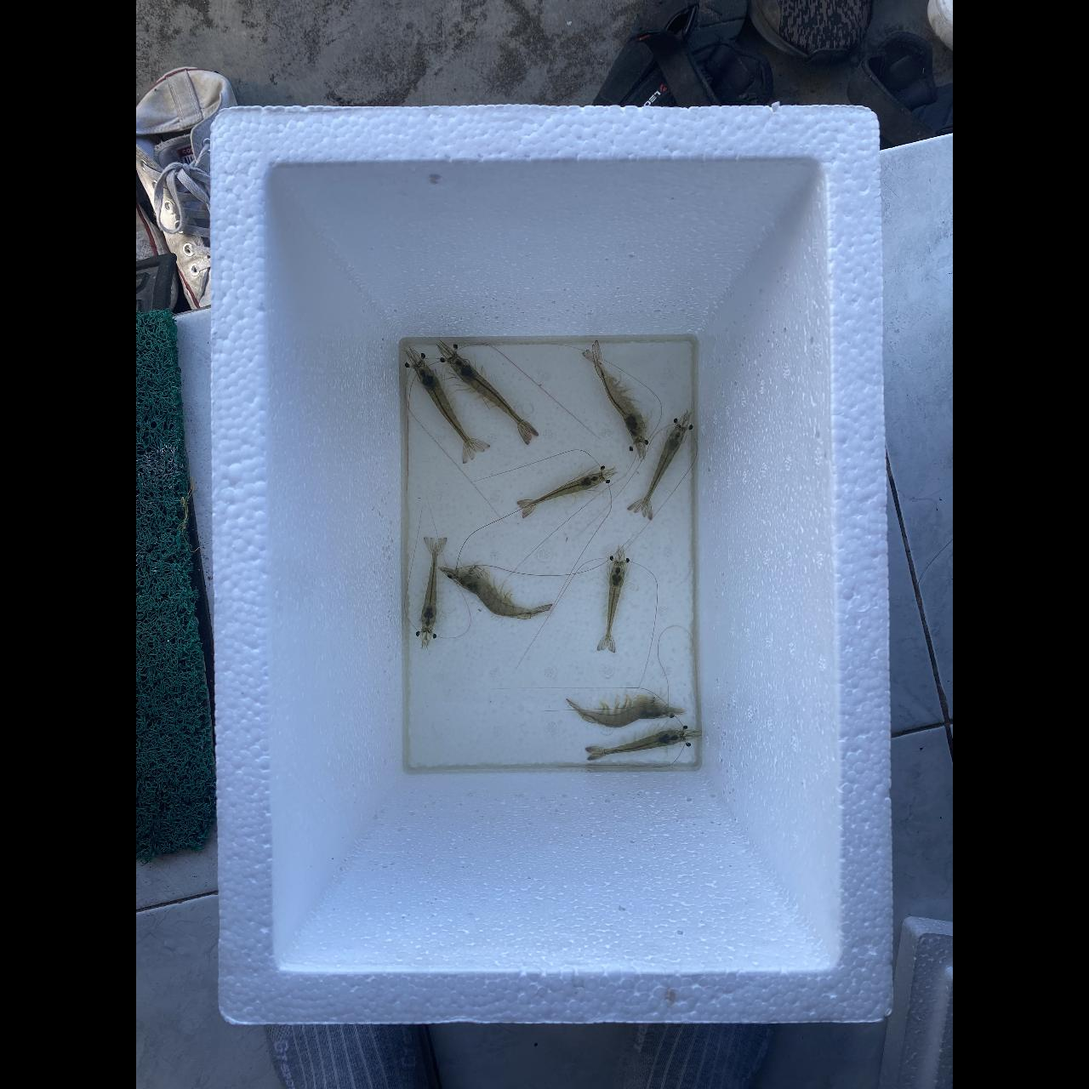side_shrimp: (592, 348, 643, 435), (458, 575, 551, 618), (567, 700, 667, 727)
top_shrimp: (452, 356, 530, 432), (415, 364, 476, 451), (641, 428, 685, 511), (523, 474, 603, 508), (591, 731, 684, 755), (607, 562, 625, 647), (421, 542, 437, 629)
